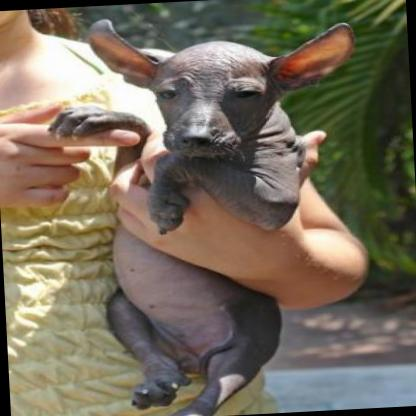Mexican_hairless: (36, 3, 371, 416)
